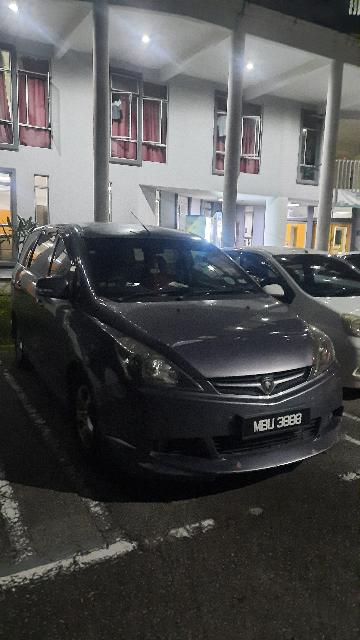License_Plate: (236, 405, 314, 435)
car: (15, 227, 351, 484)
